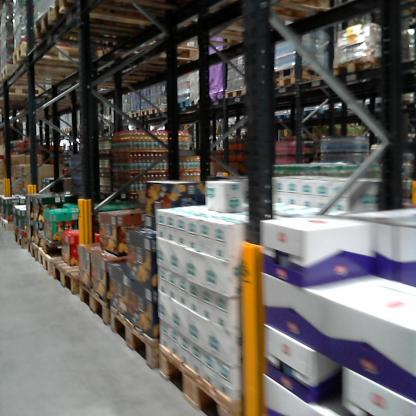pallet: (155, 340, 248, 414), (32, 8, 154, 51), (143, 17, 272, 50), (194, 0, 335, 30), (49, 2, 161, 34), (9, 40, 99, 78), (107, 304, 158, 371), (103, 42, 206, 66), (0, 61, 95, 85), (75, 276, 108, 328), (36, 242, 80, 279), (329, 56, 384, 84), (51, 255, 82, 300), (36, 228, 71, 260), (266, 77, 319, 94), (1, 85, 52, 100), (295, 106, 326, 121), (268, 110, 298, 125), (12, 229, 30, 253), (27, 238, 43, 265), (227, 86, 250, 100), (1, 214, 18, 232), (175, 98, 190, 113), (151, 105, 169, 117), (191, 97, 209, 107), (117, 112, 131, 123), (131, 109, 142, 121), (140, 106, 151, 117)
